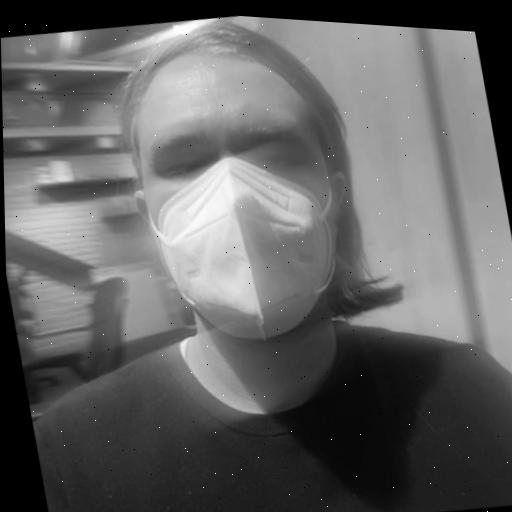mask: (86, 6, 408, 367)
